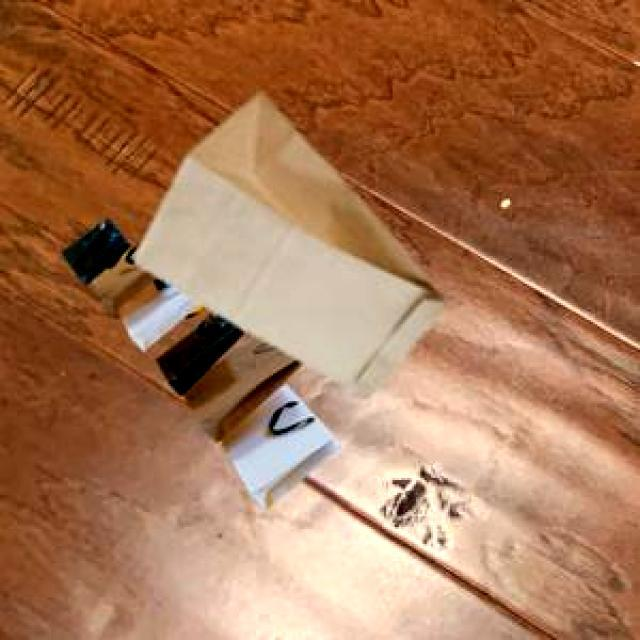Paper_Bag: (131, 90, 443, 396), (59, 216, 338, 506)
